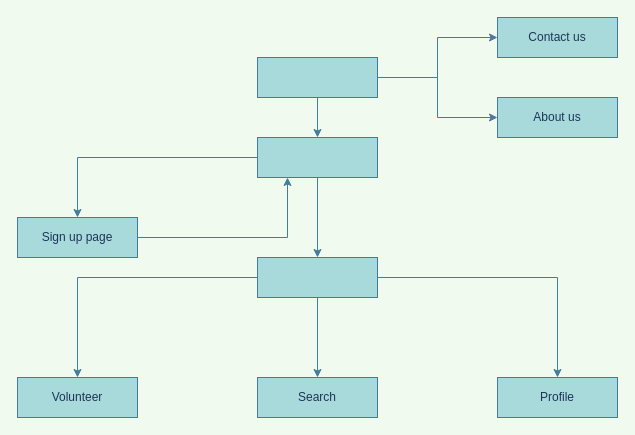
Image size: 635x435. Some labels were removed from this diagram. Here are the shapes that lost their labels. From the top down, the box of each, then its label:
(256, 56, 378, 98): First home page
(256, 136, 378, 178): Login page
(256, 256, 378, 298): Second home page
